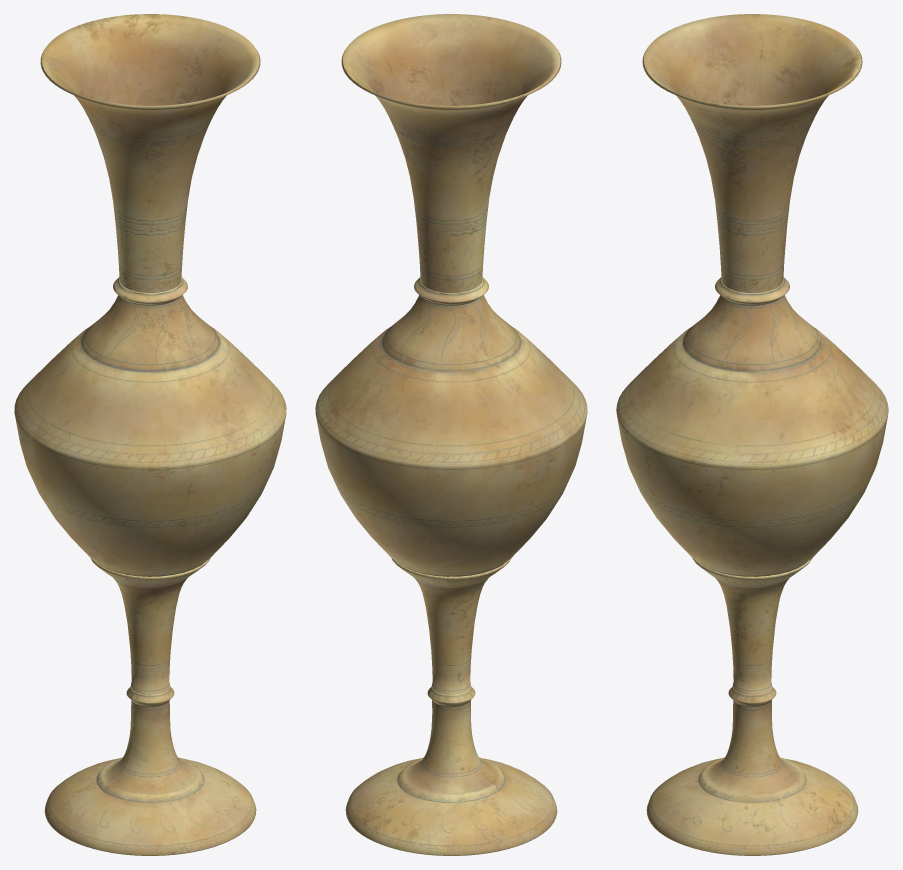
File: brass_vase_01.glb
3 renders of one model, left to right at view 1: azimuth 30°, elevation 25°; view 2: azimuth 150°, elevation 25°; view 3: azimuth 270°, elevation 25°, orthographic.
Visible parts, largest first — view 1: brass_vase_01; view 2: brass_vase_01; view 3: brass_vase_01.
Boxes of the visible parts, x1,y1,x2,y2 form: brass_vase_01: (14,14,286,855); brass_vase_01: (315,14,587,855); brass_vase_01: (616,14,888,855).
Size of the model in its own units: 0.2274 by 0.6925 by 0.2273.
Materials: 1 (1 with a texture image).
